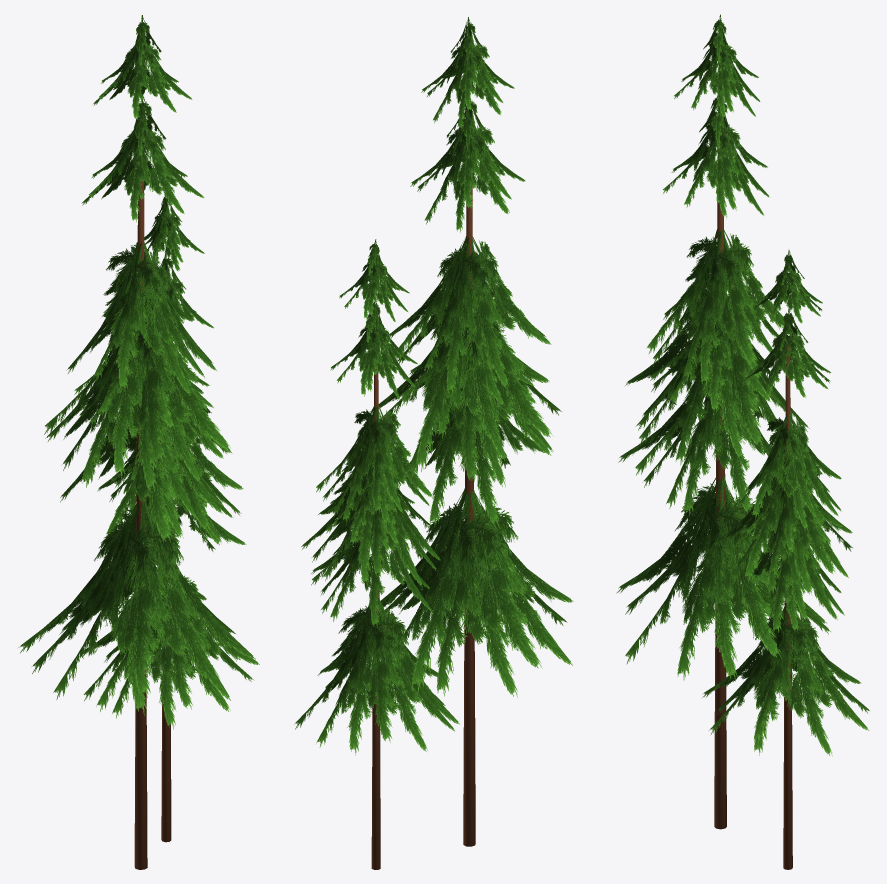
The model's file is Pine_Stylized_07_Tree.glb.
3 renders of one model, left to right at view 1: azimuth 30°, elevation 25°; view 2: azimuth 150°, elevation 25°; view 3: azimuth 270°, elevation 25°, orthographic. The views are drawn at different scales.
Visible parts, largest first — view 1: Cylinder.007_1, Cylinder.007_0; view 2: Cylinder.007_1, Cylinder.007_0; view 3: Cylinder.007_1, Cylinder.007_0.
Boxes of the visible parts, x1,y1,x2,y2 form: Cylinder.007_1: (18,15,259,729); Cylinder.007_0: (134,147,171,869); Cylinder.007_1: (294,17,573,755); Cylinder.007_0: (371,184,475,869); Cylinder.007_1: (616,14,869,756); Cylinder.007_0: (714,151,792,869).
Bounding box in the file's own units: 3.45 × 11.56 × 3.36.
2 materials, 2 textured.
